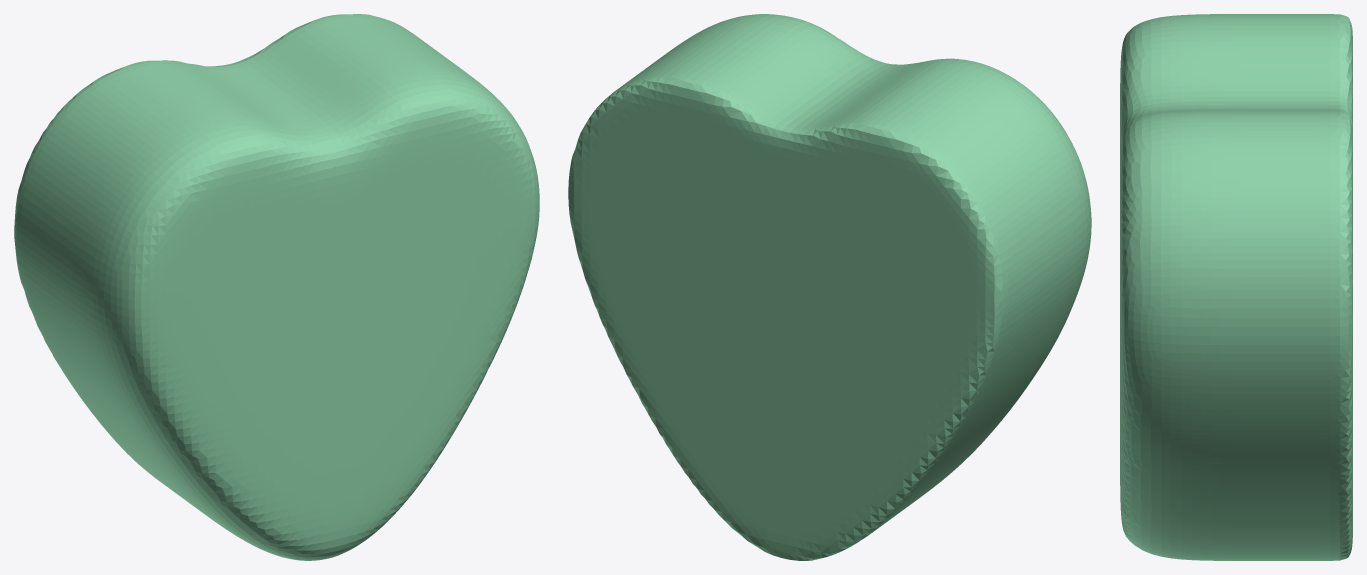
File: Conversation_Bullet_Green.glb
The picture shows the model from 3 angles, left to right: view 1: azimuth 30°, elevation 25°; view 2: azimuth 150°, elevation 25°; view 3: azimuth 270°, elevation 25°; orthographic projection. The views are drawn at different scales.
Visible parts, largest first — view 1: upper right conversation heart; view 2: upper right conversation heart; view 3: upper right conversation heart.
Boxes of the visible parts, x1,y1,x2,y2 form: upper right conversation heart: (14, 14, 539, 560); upper right conversation heart: (568, 14, 1091, 560); upper right conversation heart: (1120, 14, 1352, 560).
Size of the model in its own units: 1.93 by 1.94 by 0.859.
